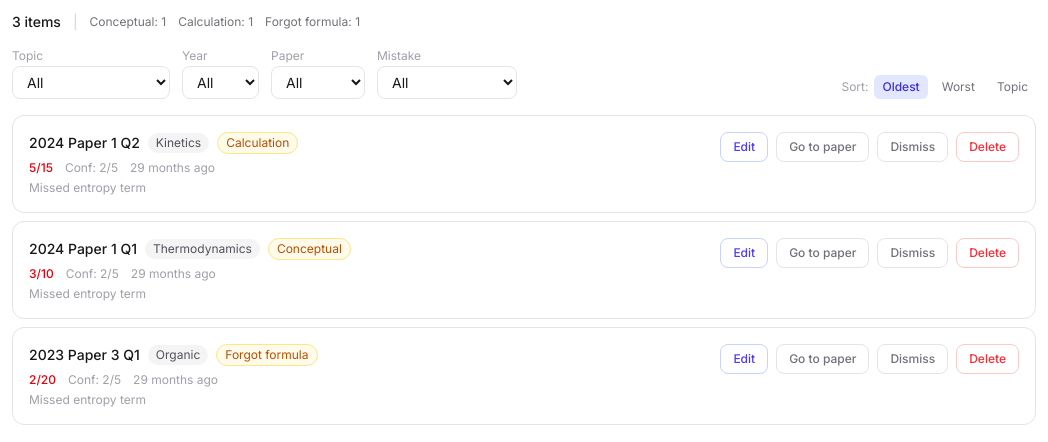
Test case: ReviewClient › filters by year
The image size is (1048, 442).
Select "2023" in the dropdown labelled "Year". click: point(220, 82)
box: 182,66 -> 259,99
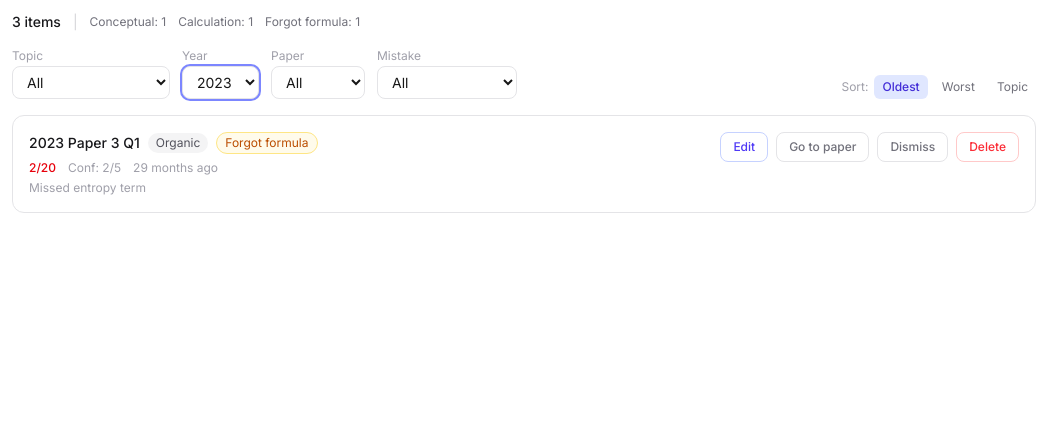
Check: the number of buttons "Dismiss" is 1, box 877,132 -> 948,162
